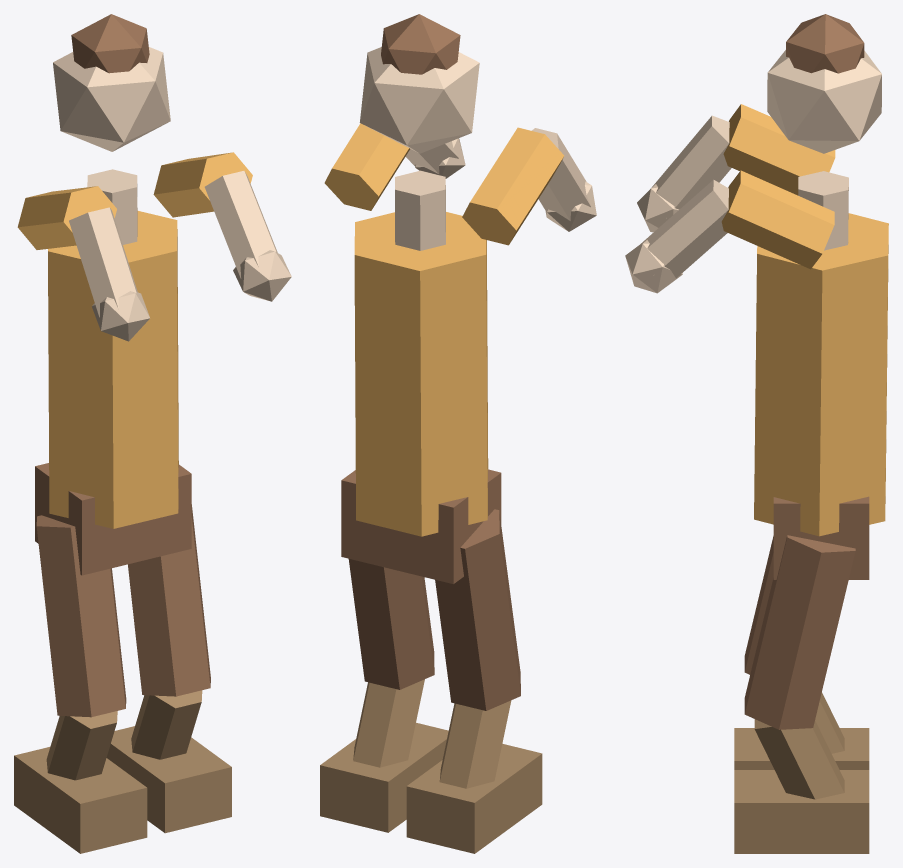
The model's file is pose_idle_06.glb.
The picture shows the model from 3 angles, left to right: view 1: azimuth 30°, elevation 25°; view 2: azimuth 150°, elevation 25°; view 3: azimuth 270°, elevation 25°; orthographic projection. The views are drawn at different scales.
Parts seen in each view (by area): view 1: pose; view 2: pose; view 3: pose.
Boxes of the visible parts, x1,y1,x2,y2 form: pose: (14,14,291,853); pose: (320,14,596,853); pose: (625,14,888,853).
Bounding box in the file's own units: 0.3966 × 1.58 × 0.4698.
